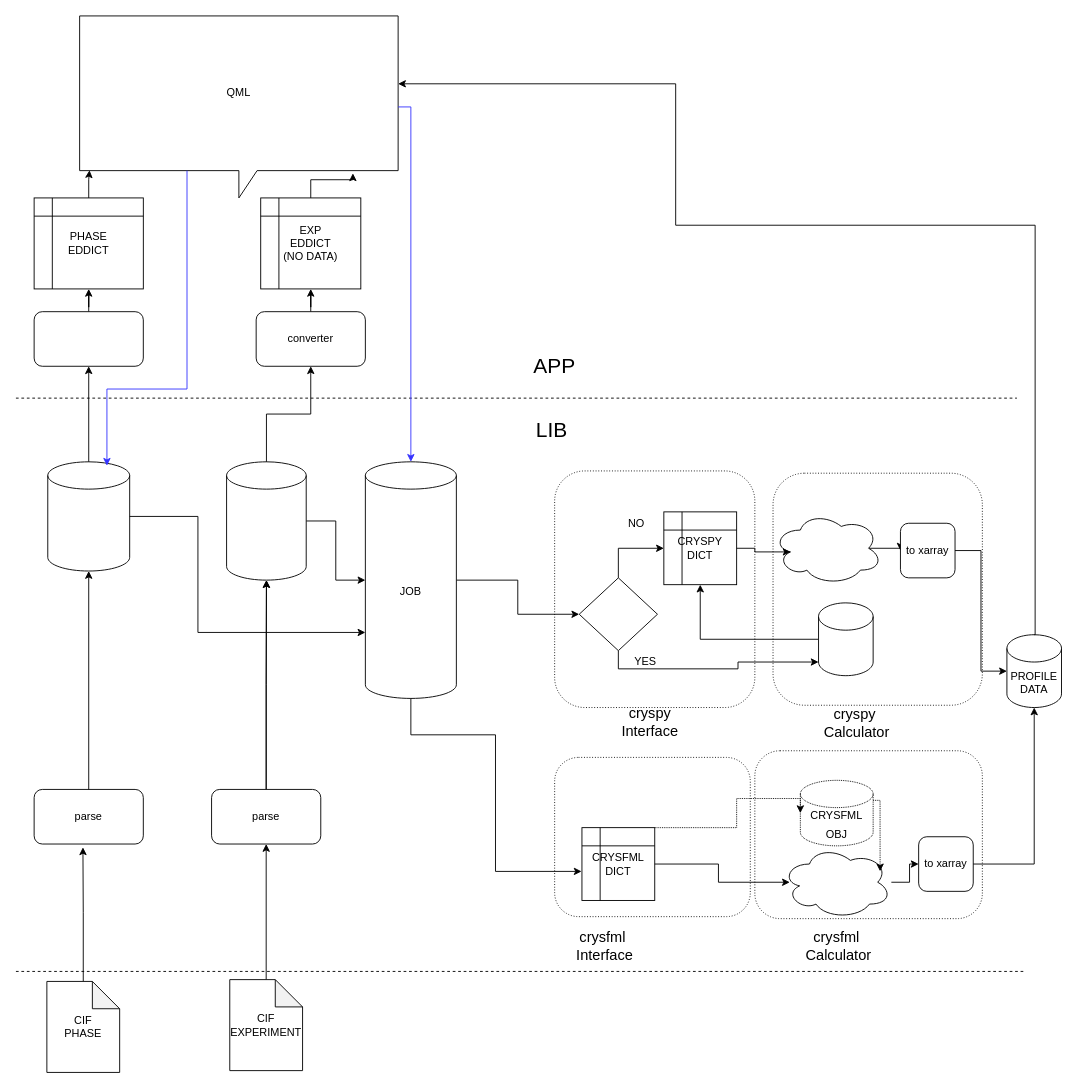
Image size: 1077x1088. Some labels were removed from this diagram. Each missing label, with the box of its shape:
crysfml: (781, 845, 891, 919)
cryspy: (772, 511, 882, 585)
CRYSPY OBJ: (818, 602, 873, 676)
EXP: (226, 461, 306, 580)
full update required?: (578, 577, 657, 651)
PHASE: (47, 461, 130, 571)
phase to dict: (33, 311, 143, 366)
